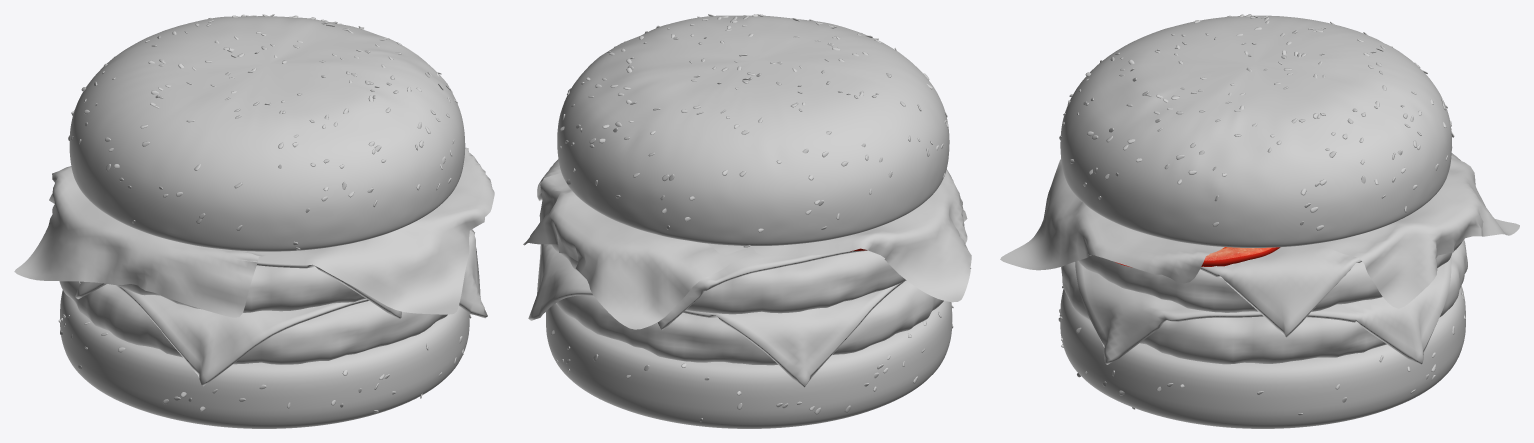
File: burger.obj
3 views of the same model, side by side, from view 1: azimuth 30°, elevation 25°; view 2: azimuth 150°, elevation 25°; view 3: azimuth 270°, elevation 25° (orthographic).
Parts seen in each view (by area): view 1: Bread(top), Salad, Bread(bottom), Meat, Cheese, Meat2, Sesame2, Cheese2, Sesame; view 2: Bread(top), Bread(bottom), Salad, Meat, Cheese, Meat2, Sesame2, Cheese2, Sesame; view 3: Bread(top), Bread(bottom), Salad, Cheese, Meat, Cheese2, Meat2, Sesame2, Tomato2.
Boxes of the visible parts, box(x1,y1,x2,y2) form: Bread(top): box(69, 16, 465, 251); Salad: box(14, 147, 494, 317); Bread(bottom): box(60, 290, 469, 428); Meat: box(59, 281, 447, 364); Cheese: box(115, 229, 487, 386); Meat2: box(116, 265, 365, 312); Sesame2: box(68, 14, 457, 250); Cheese2: box(75, 262, 401, 318); Sesame: box(58, 314, 471, 412); Bread(top): box(557, 15, 949, 245); Bread(bottom): box(546, 301, 952, 428); Salad: box(523, 169, 971, 329); Meat: box(556, 280, 943, 365); Cheese: box(528, 244, 970, 387); Meat2: box(551, 244, 906, 314); Sesame2: box(560, 14, 948, 247); Cheese2: box(537, 159, 867, 329); Sesame: box(551, 305, 953, 421); Bread(top): box(1060, 15, 1451, 247); Bread(bottom): box(1060, 285, 1465, 428); Salad: box(1000, 157, 1519, 308); Cheese: box(1075, 256, 1451, 364); Meat: box(1061, 240, 1467, 364); Cheese2: box(1200, 153, 1460, 337); Meat2: box(1078, 241, 1462, 312); Sesame2: box(1059, 14, 1454, 230); Tomato2: box(1115, 247, 1280, 267).
Size of the model in its own units: 5.3 by 3.43 by 5.57.
